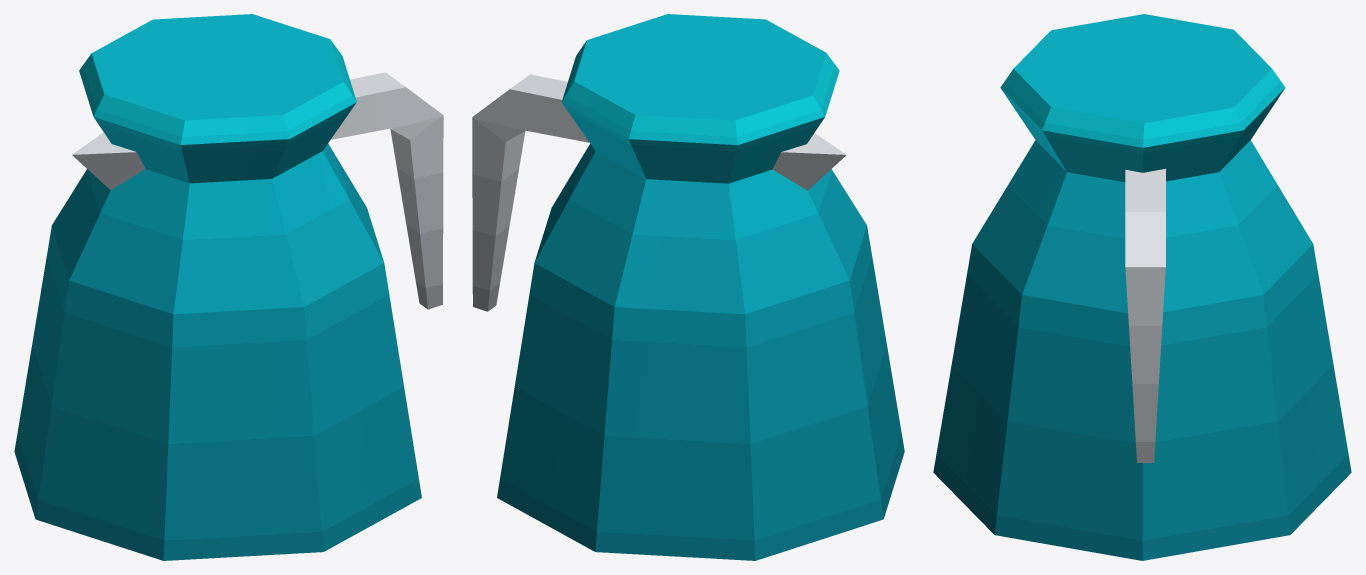
The model's file is CoffeeServer.fbx.
3 renders of one model, left to right at view 1: azimuth 30°, elevation 25°; view 2: azimuth 150°, elevation 25°; view 3: azimuth 270°, elevation 25°, orthographic.
Visible parts, largest first — view 1: CoffeeServer+v1; view 2: CoffeeServer+v1; view 3: CoffeeServer+v1.
Boxes of the visible parts, x1,y1,x2,y2 form: CoffeeServer+v1: (14,14,443,560); CoffeeServer+v1: (472,14,904,560); CoffeeServer+v1: (933,14,1351,560).
Size of the model in its own units: 39.23 by 37.75 by 35.43.
